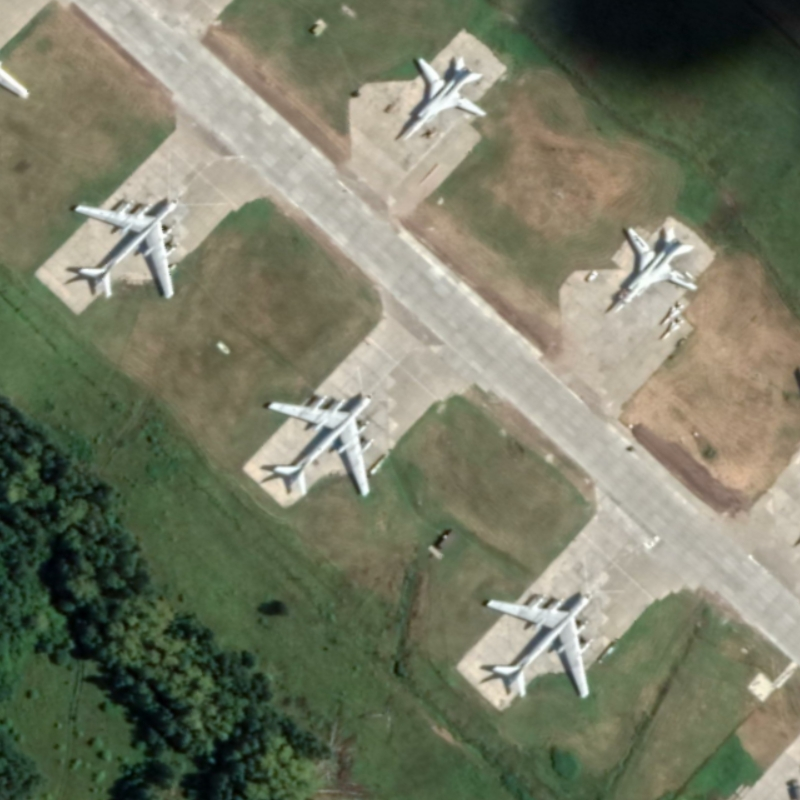A12: (610, 224, 700, 314), (401, 55, 489, 143)
A17: (484, 592, 593, 701), (266, 393, 374, 499), (72, 196, 179, 301)
